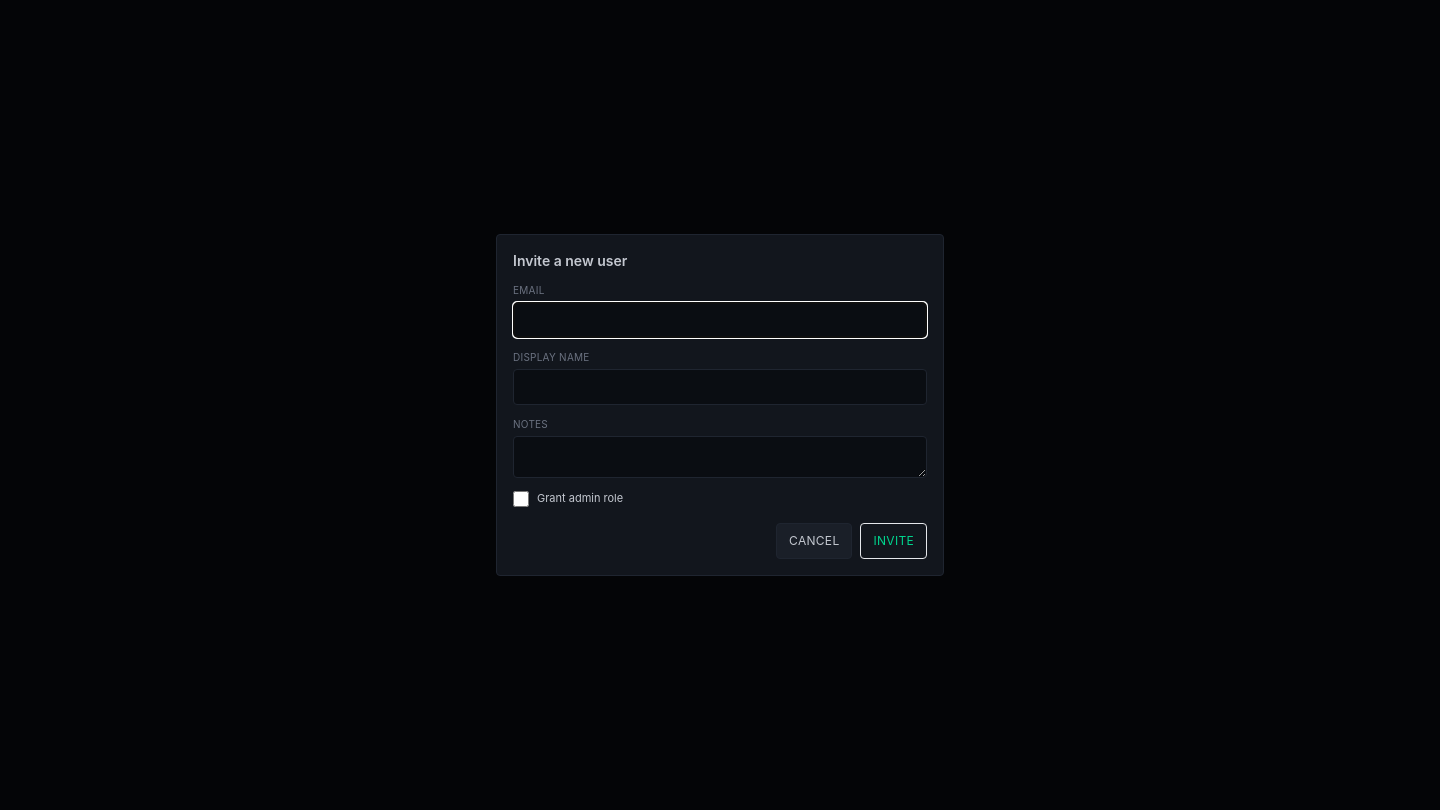
InviteUserModal › API error renders alert and stays on form
The width and height of the screenshot is (1440, 810).
In the field labelled "Email": {"x": 720, "y": 320} [513,302,927,338], type "x@e.com"
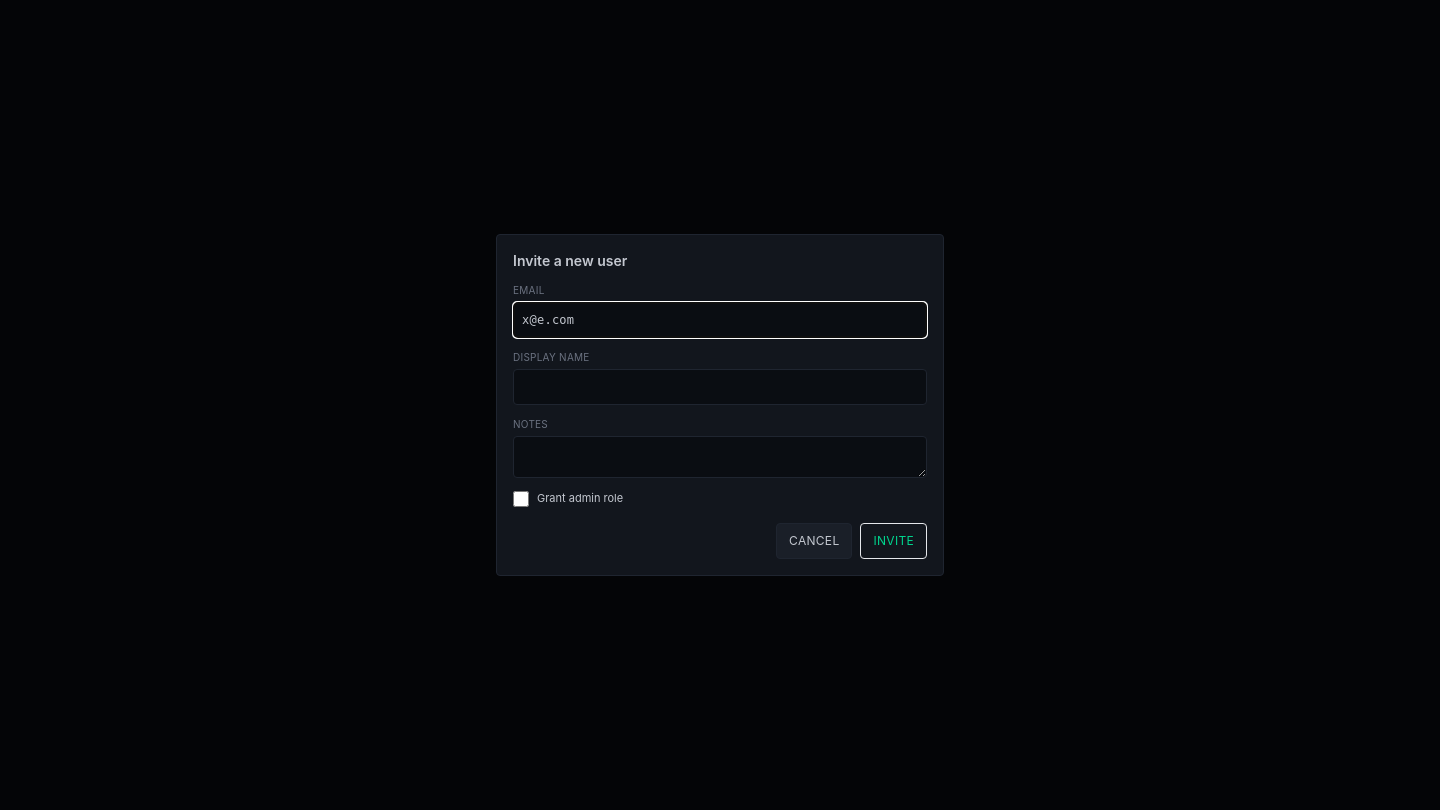
Click the button "Invite": {"x": 894, "y": 541} [860,523,927,559]
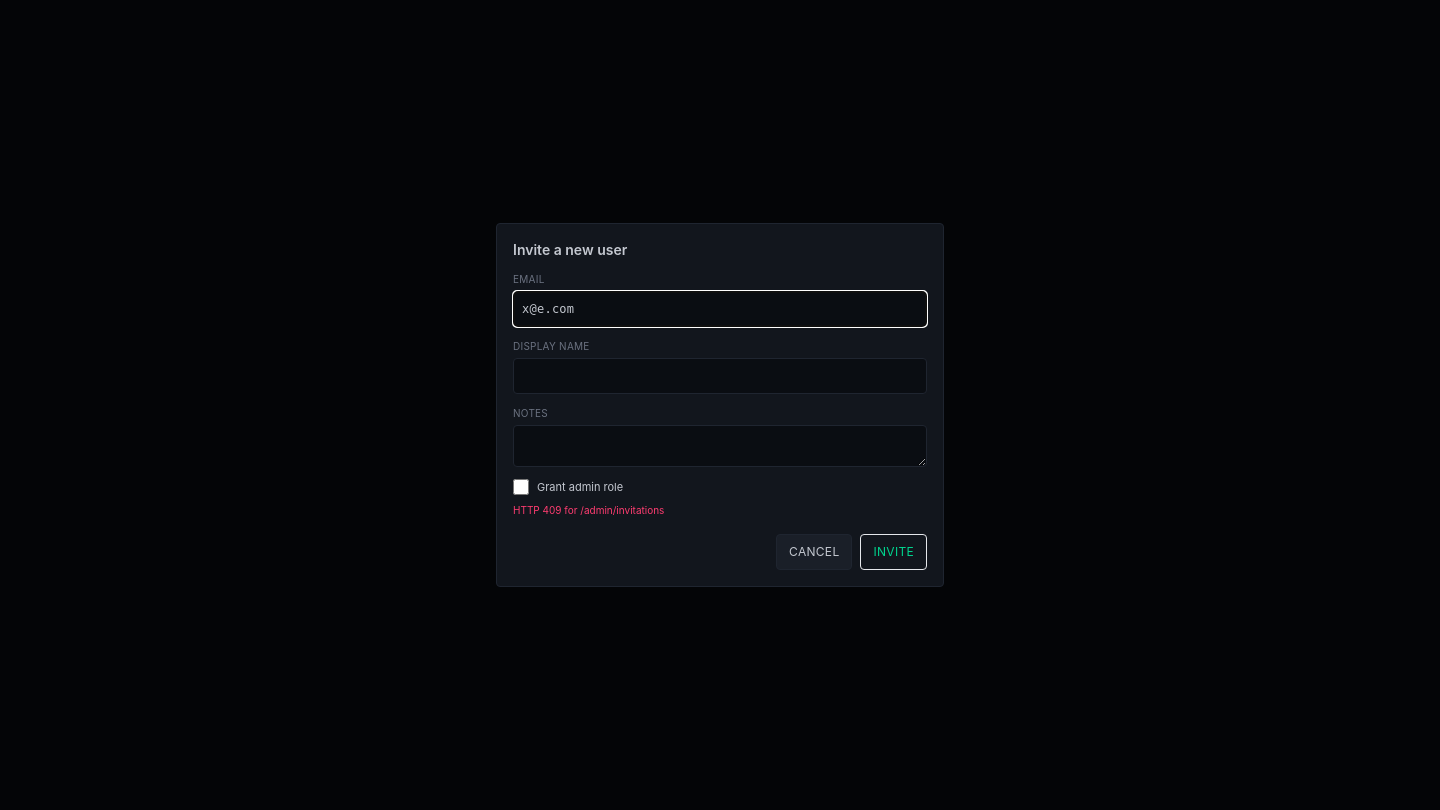
Result: the message shows "HTTP 409" at [513,504,664,516]
